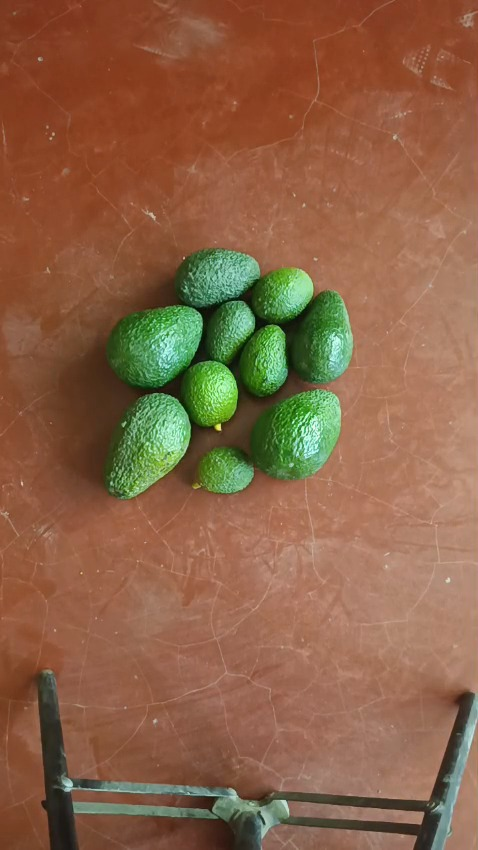Primera: (102, 392, 191, 497), (250, 388, 341, 479), (105, 306, 204, 388)
Segunda: (289, 290, 353, 384), (173, 247, 261, 309)
Tercera: (180, 360, 238, 428), (249, 267, 313, 324), (238, 324, 288, 396), (204, 299, 255, 366), (195, 445, 254, 493)
